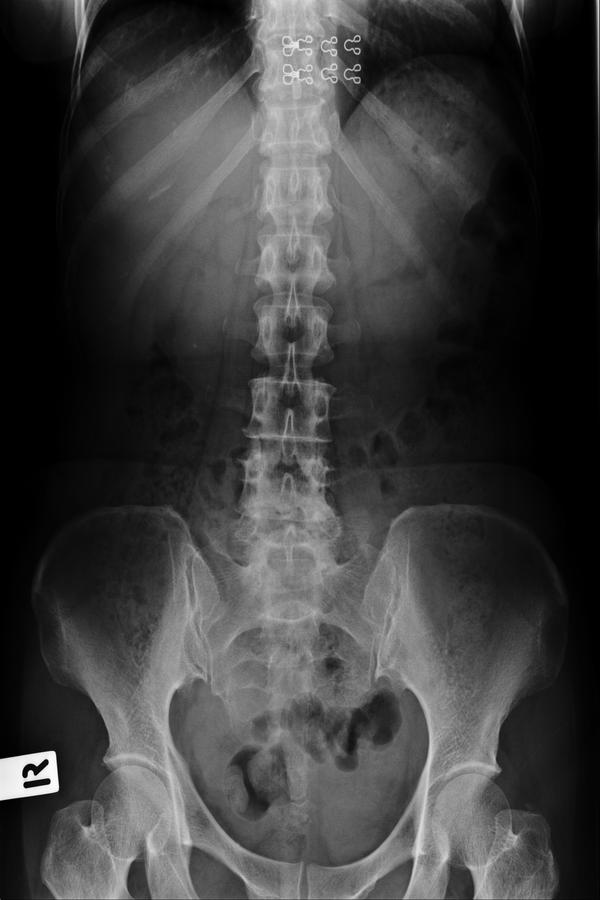not lumbar scoliosis: (234, 212, 340, 587)
